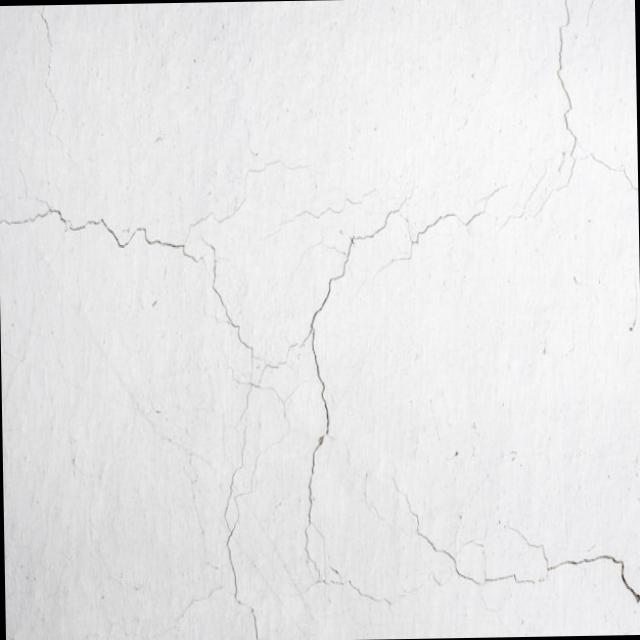crack: (288, 186, 421, 610), (165, 244, 257, 640), (392, 468, 640, 603), (0, 155, 213, 285), (410, 156, 554, 240), (215, 155, 312, 214), (552, 0, 576, 187), (248, 324, 312, 391), (39, 4, 60, 166), (577, 138, 637, 194)
